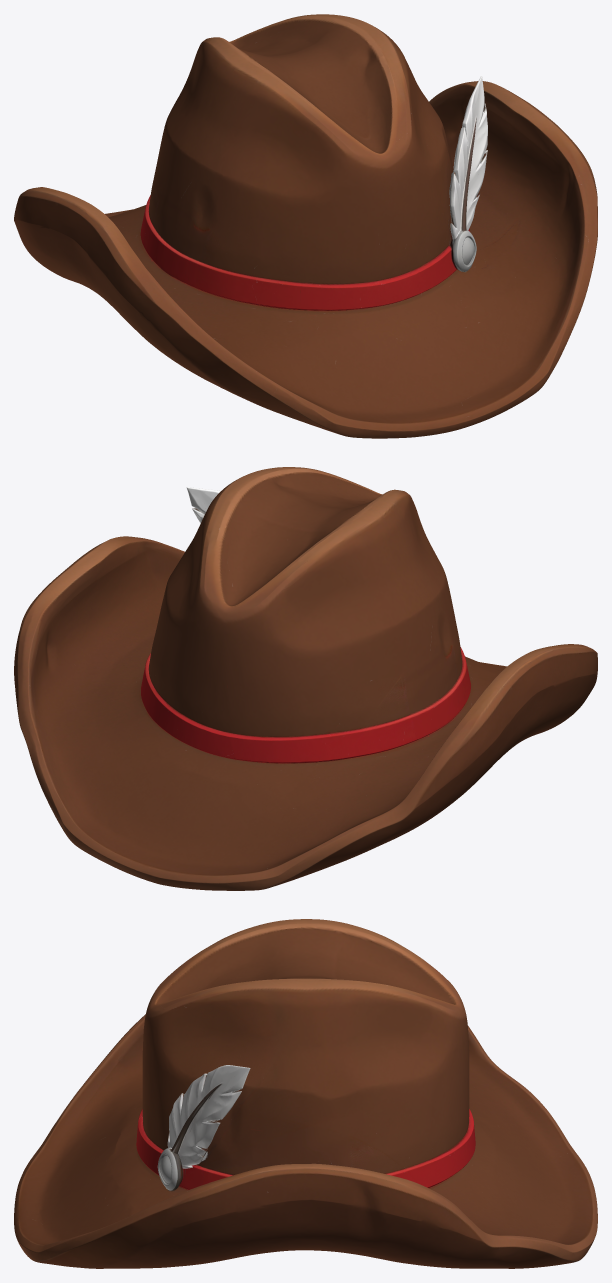
The model's file is hat_cattleman.glb.
The picture shows the model from 3 angles, top to bottom: view 1: azimuth 30°, elevation 25°; view 2: azimuth 150°, elevation 25°; view 3: azimuth 270°, elevation 25°; orthographic projection.
Parts seen in each view (by area): view 1: Mesh_0; view 2: Mesh_0; view 3: Mesh_0.
Part boxes in pixels (x1,y1,x2,y2): Mesh_0: (14,14,597,438); Mesh_0: (14,467,597,890); Mesh_0: (14,919,597,1268).
Size of the model in its own units: 0.4576 by 0.2615 by 0.5.
1 material, 1 textured.
